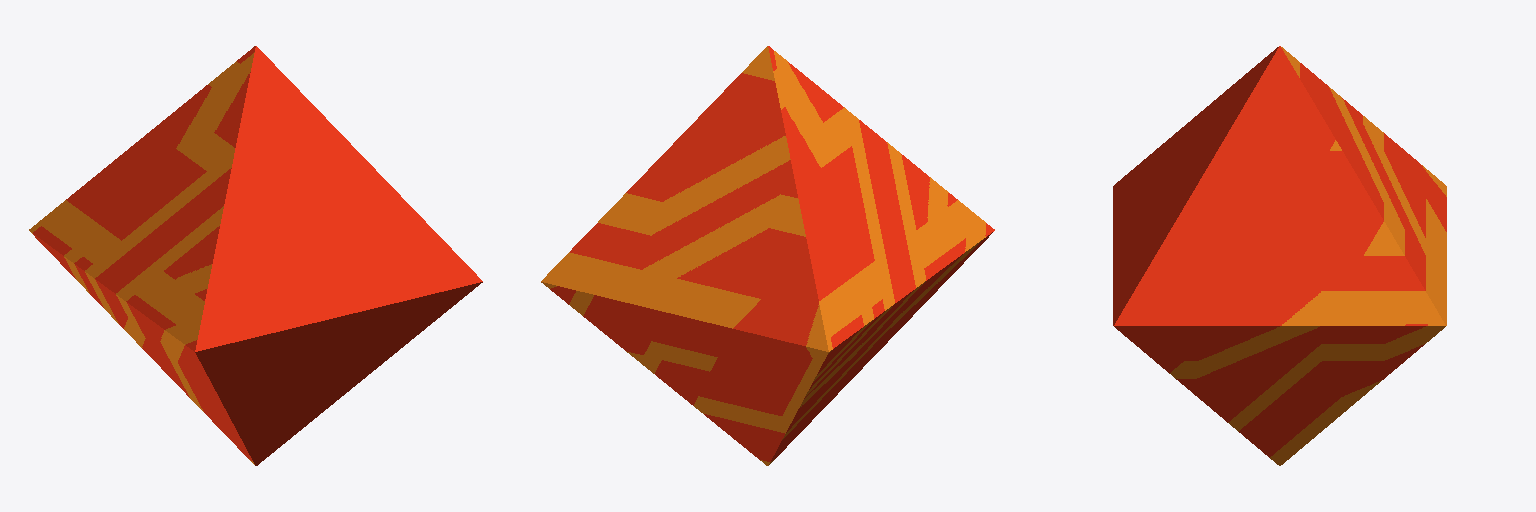
The picture shows the model from 3 angles: view 1: azimuth 30°, elevation 25°; view 2: azimuth 150°, elevation 25°; view 3: azimuth 270°, elevation 25°; orthographic projection.
Parts seen in each view (by area): view 1: 立方体; view 2: 立方体; view 3: 立方体.
Part boxes in pixels (x1,y1,x2,y2): 立方体: (29,46,482,465); 立方体: (541,46,994,465); 立方体: (1113,46,1446,465).
Size of the model in its own units: 2 by 2.79 by 2.
Materials: 1 (1 with a texture image).